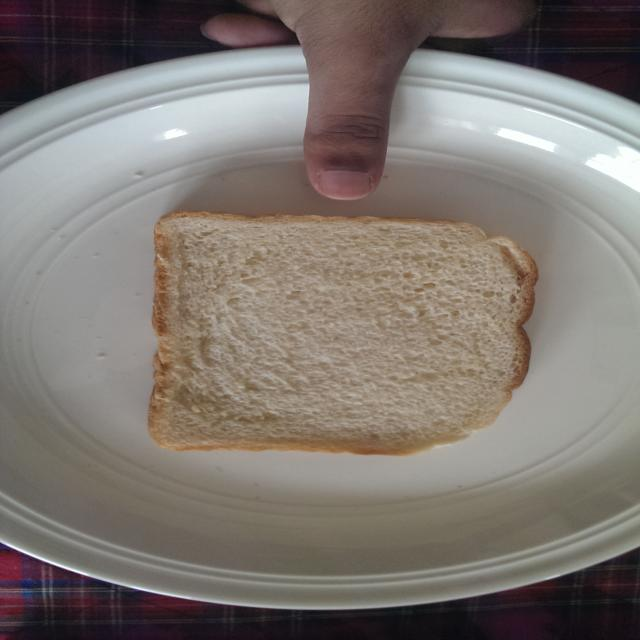bread: (124, 206, 549, 471)
